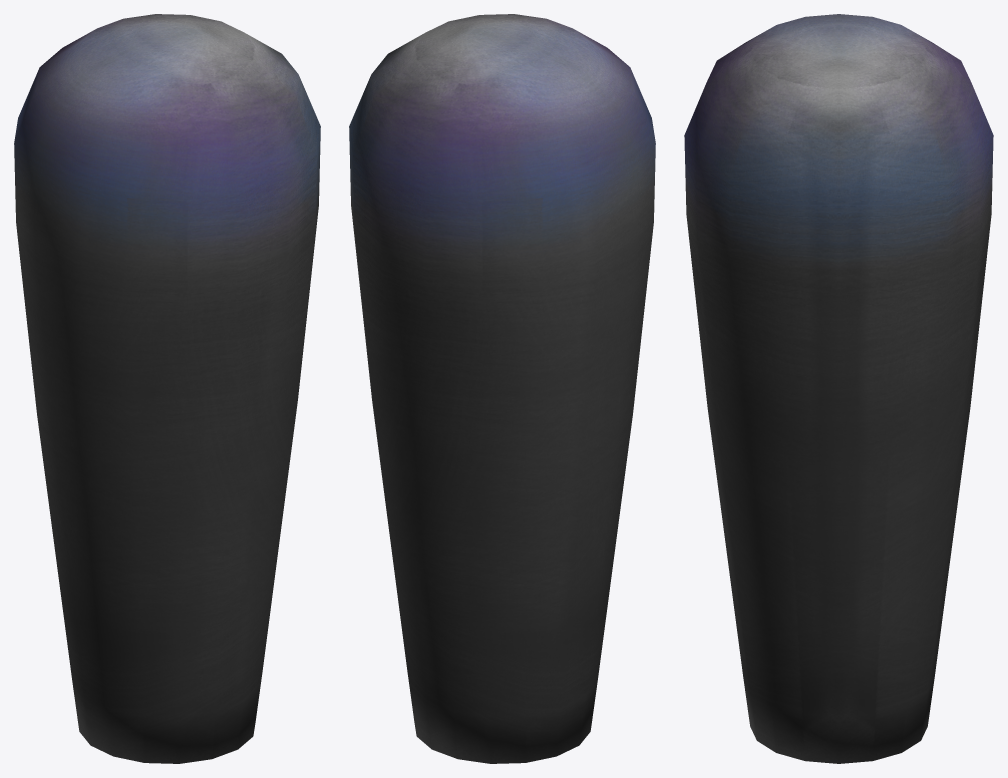
File: mortar.fbx
The picture shows the model from 3 angles, left to right: view 1: azimuth 30°, elevation 25°; view 2: azimuth 150°, elevation 25°; view 3: azimuth 270°, elevation 25°; orthographic projection.
Parts seen in each view (by area): view 1: mortar; view 2: mortar; view 3: mortar.
Part boxes in pixels (x1,y1,x2,y2): mortar: (14, 14, 320, 763); mortar: (349, 14, 655, 763); mortar: (684, 14, 993, 763).
Size of the model in its own units: 8.32 by 20.44 by 8.32.
